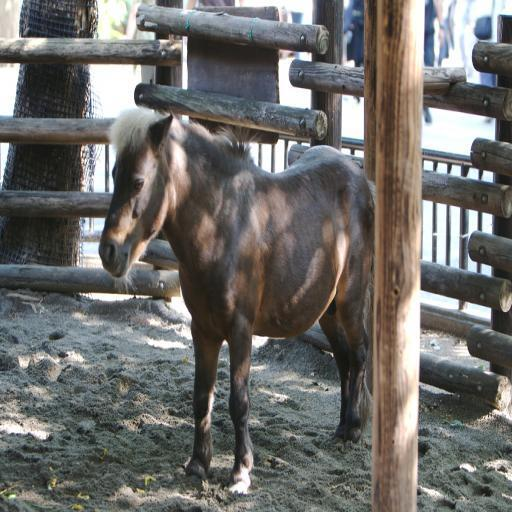horse: (96, 105, 378, 494)
